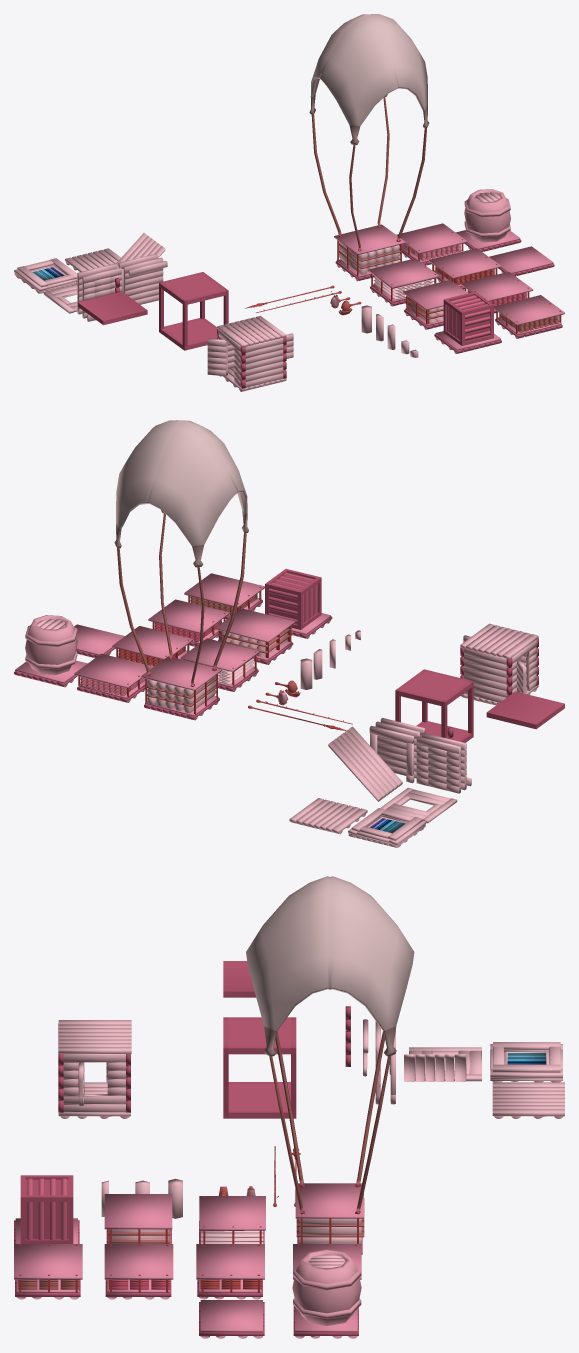
File: survival build.obj
The picture shows the model from 3 angles, top to bottom: view 1: azimuth 30°, elevation 25°; view 2: azimuth 150°, elevation 25°; view 3: azimuth 270°, elevation 25°; orthographic projection. The views are drawn at different scales.
Parts seen in each view (by area): view 1: parachute_a8.009_set_part_0.001, 0_case_supply_a7_set_part_0, 0_barrel_supply_a8_set_part_0, 0_rawwood_supply_a8.009_set_part_0, 1_iron_supply_a8.008_set_part_0.001, 2_processed_wood_supply_a8.004_set_part_0, 2_copper_supply_a8.008_set_part_0.003, 1_half_wood_supply_a8.010_set_part_0, 3_xMetal_supply_a8.008_set_part_0.002, wall.003_c3_set_part_0.004, crop_x1_set_part_0, 0_gold_supply_a8.008_set_part_0 (+12 smaller); view 2: parachute_a8.009_set_part_0.001, 0_rawwood_supply_a8.009_set_part_0, 0_barrel_supply_a8_set_part_0, 0_case_supply_a7_set_part_0, 1_half_wood_supply_a8.010_set_part_0, 2_copper_supply_a8.008_set_part_0.003, stairs_big_d2_set_part_0, 2_processed_wood_supply_a8.004_set_part_0, 0_gold_supply_a8.008_set_part_0, 1_iron_supply_a8.008_set_part_0.001, 3_xMetal_supply_a8.008_set_part_0.002, crop_x1_set_part_0 (+13 smaller); view 3: parachute_a8.009_set_part_0.001, 0_barrel_supply_a8_set_part_0, 0_case_supply_a7_set_part_0, 0_rawwood_supply_a8.009_set_part_0, 0_gold_supply_a8.008_set_part_0, 3_xMetal_supply_a8.008_set_part_0.002, 1_iron_supply_a8.008_set_part_0.001, 1_half_wood_supply_a8.010_set_part_0, 2_processed_wood_supply_a8.004_set_part_0, crop_x1_set_part_0, window_wall.001_c5_set_part_0.001, ground_d5_set_part_0 (+9 smaller).
Boxes of the visible parts, bbox=[...] form: parachute_a8.009_set_part_0.001: bbox=[309, 14, 429, 251]; 0_case_supply_a7_set_part_0: bbox=[434, 291, 501, 353]; 0_barrel_supply_a8_set_part_0: bbox=[456, 189, 521, 251]; 0_rawwood_supply_a8.009_set_part_0: bbox=[334, 224, 405, 281]; 1_iron_supply_a8.008_set_part_0.001: bbox=[494, 295, 564, 338]; 2_processed_wood_supply_a8.004_set_part_0: bbox=[369, 258, 438, 306]; 2_copper_supply_a8.008_set_part_0.003: bbox=[396, 223, 466, 265]; 1_half_wood_supply_a8.010_set_part_0: bbox=[403, 280, 467, 329]; 3_xMetal_supply_a8.008_set_part_0.002: bbox=[429, 248, 500, 289]; wall.003_c3_set_part_0.004: bbox=[244, 337, 283, 387]; crop_x1_set_part_0: bbox=[14, 258, 77, 293]; 0_gold_supply_a8.008_set_part_0: bbox=[461, 272, 533, 313]; parachute_a8.009_set_part_0.001: bbox=[114, 420, 248, 686]; 0_rawwood_supply_a8.009_set_part_0: bbox=[141, 656, 221, 720]; 0_barrel_supply_a8_set_part_0: bbox=[14, 615, 87, 687]; 0_case_supply_a7_set_part_0: bbox=[265, 569, 332, 638]; 1_half_wood_supply_a8.010_set_part_0: bbox=[215, 608, 295, 664]; 2_copper_supply_a8.008_set_part_0.003: bbox=[74, 653, 153, 702]; stairs_big_d2_set_part_0: bbox=[328, 726, 402, 801]; 2_processed_wood_supply_a8.004_set_part_0: bbox=[180, 638, 259, 691]; 0_gold_supply_a8.008_set_part_0: bbox=[148, 599, 229, 646]; 1_iron_supply_a8.008_set_part_0.001: bbox=[184, 573, 264, 619]; 3_xMetal_supply_a8.008_set_part_0.002: bbox=[112, 626, 193, 666]; crop_x1_set_part_0: bbox=[348, 808, 426, 847]; parachute_a8.009_set_part_0.001: bbox=[246, 876, 414, 1214]; 0_barrel_supply_a8_set_part_0: bbox=[292, 1249, 361, 1338]; 0_case_supply_a7_set_part_0: bbox=[14, 1175, 79, 1243]; 0_rawwood_supply_a8.009_set_part_0: bbox=[295, 1183, 364, 1254]; 0_gold_supply_a8.008_set_part_0: bbox=[104, 1244, 173, 1299]; 3_xMetal_supply_a8.008_set_part_0.002: bbox=[196, 1244, 264, 1299]; 1_iron_supply_a8.008_set_part_0.001: bbox=[14, 1244, 82, 1299]; 1_half_wood_supply_a8.010_set_part_0: bbox=[104, 1194, 172, 1243]; 2_processed_wood_supply_a8.004_set_part_0: bbox=[199, 1196, 265, 1243]; crop_x1_set_part_0: bbox=[490, 1042, 562, 1082]; window_wall.001_c5_set_part_0.001: bbox=[63, 1054, 125, 1112]; ground_d5_set_part_0: bbox=[492, 1082, 564, 1118].
Size of the model in its own units: 37.26 by 21.11 by 28.17.
